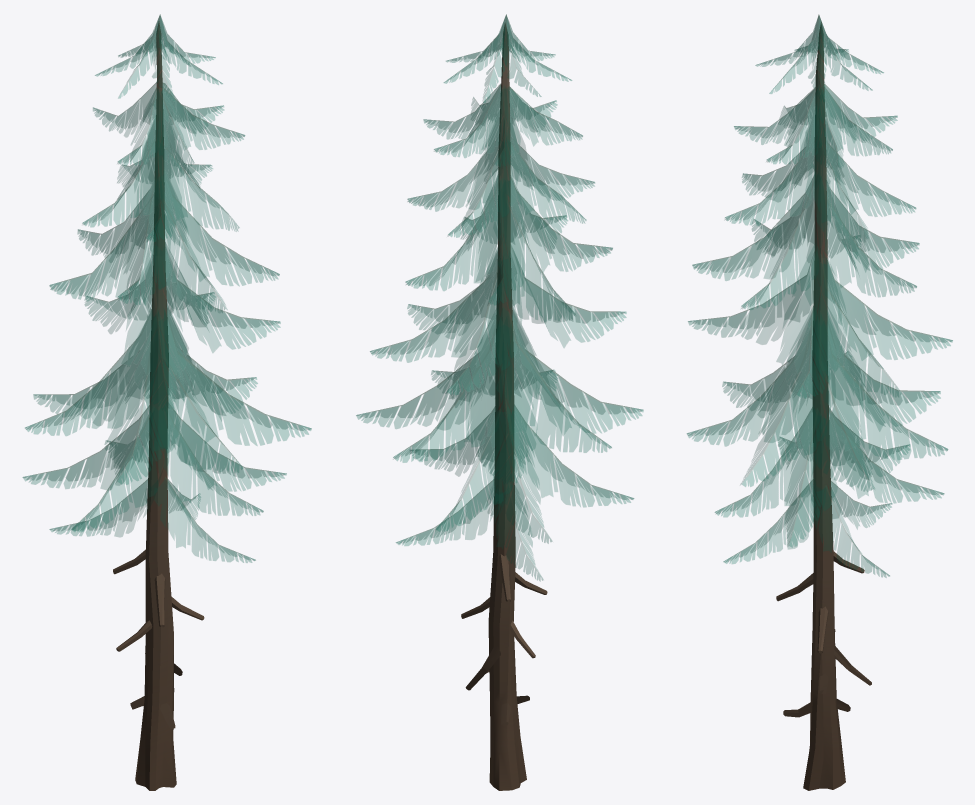
The model's file is PT_Pine_Tree_03_green.glb.
3 renders of one model, left to right at view 1: azimuth 30°, elevation 25°; view 2: azimuth 150°, elevation 25°; view 3: azimuth 270°, elevation 25°, orthographic.
Visible parts, largest first — view 1: PT_Pine_Tree_03_green_LOD0; view 2: PT_Pine_Tree_03_green_LOD0; view 3: PT_Pine_Tree_03_green_LOD0.
Boxes of the visible parts, x1=… form: PT_Pine_Tree_03_green_LOD0: x1=22, y1=14, x2=311, y2=790; PT_Pine_Tree_03_green_LOD0: x1=356, y1=14, x2=643, y2=790; PT_Pine_Tree_03_green_LOD0: x1=687, y1=14, x2=952, y2=790.
Size of the model in its own units: 3.21 by 9.17 by 3.03.
Materials: 2 (2 with a texture image).
